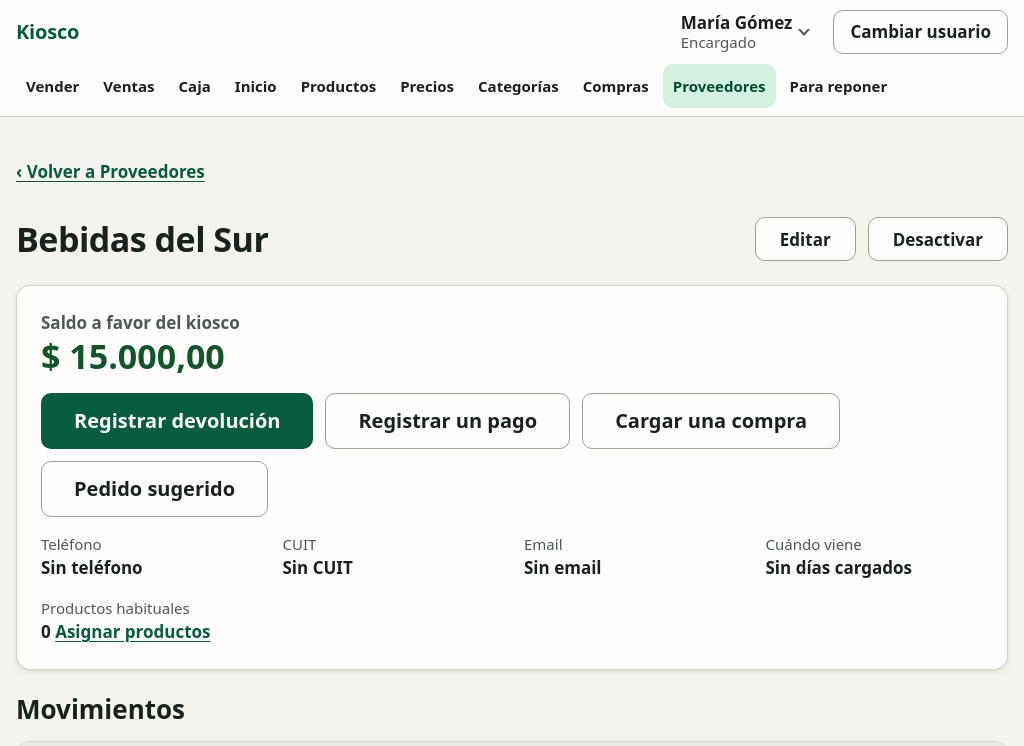
Test case: Formulario de la devolución › precarga el saldo a favor y el resumen en vivo avisa si se pasa
Click the button "Registrar devolución" at (177, 421), box [41,393,313,449]
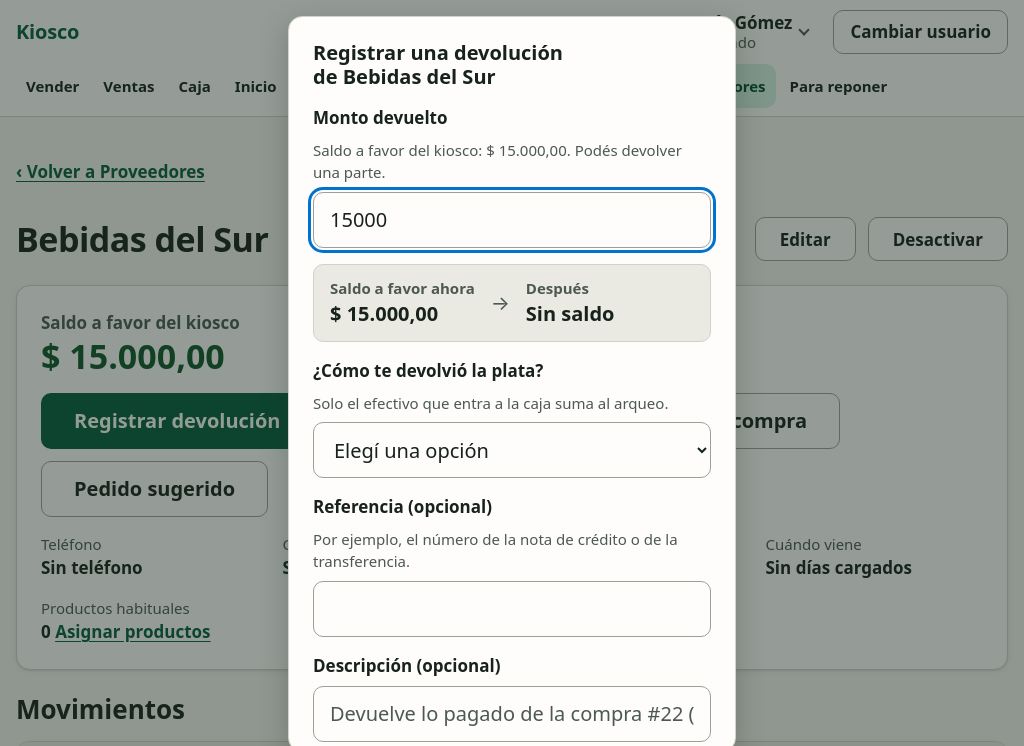
Now the field labelled "Monto devuelto" holds "15000"
Replace the text in the field labelled "Monto devuelto" with "10000" at (512, 220), box [313,192,711,248]
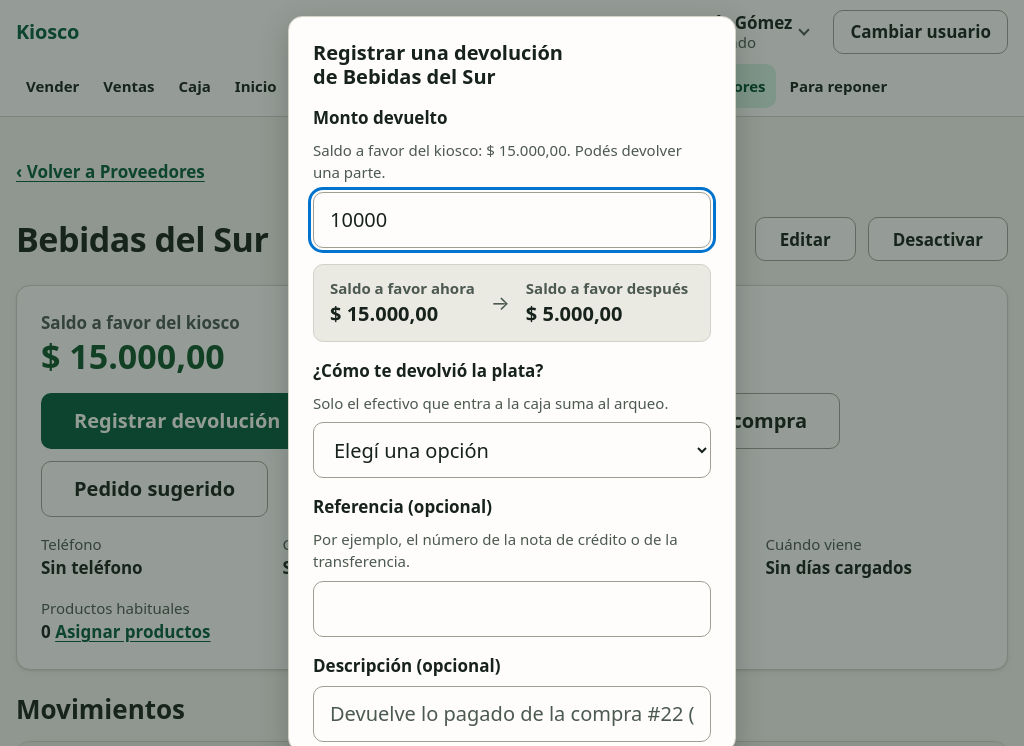
Expected: the message does not show "Es más que lo que te debe", [313,264,711,342]
Replace the text in the field labelled "Monto devuelto" with "20000" at (512, 220), box [313,192,711,248]
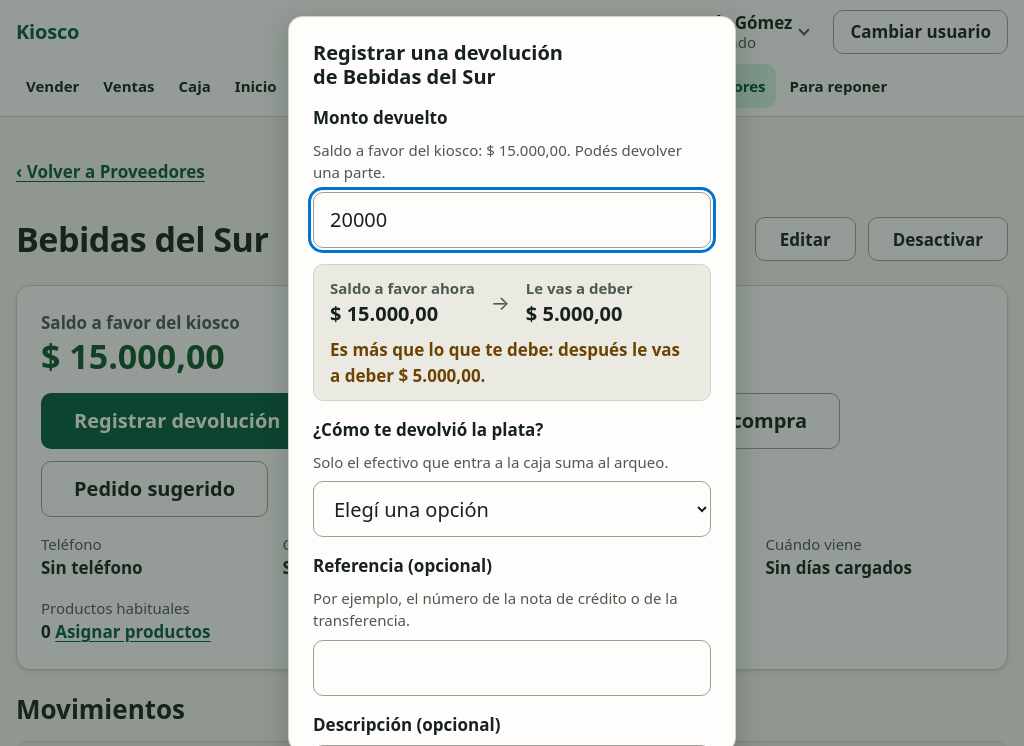
Now the message shows "Es más que lo que te debe: después le vas a deber $ 5.000,00.", box [313,264,711,401]
